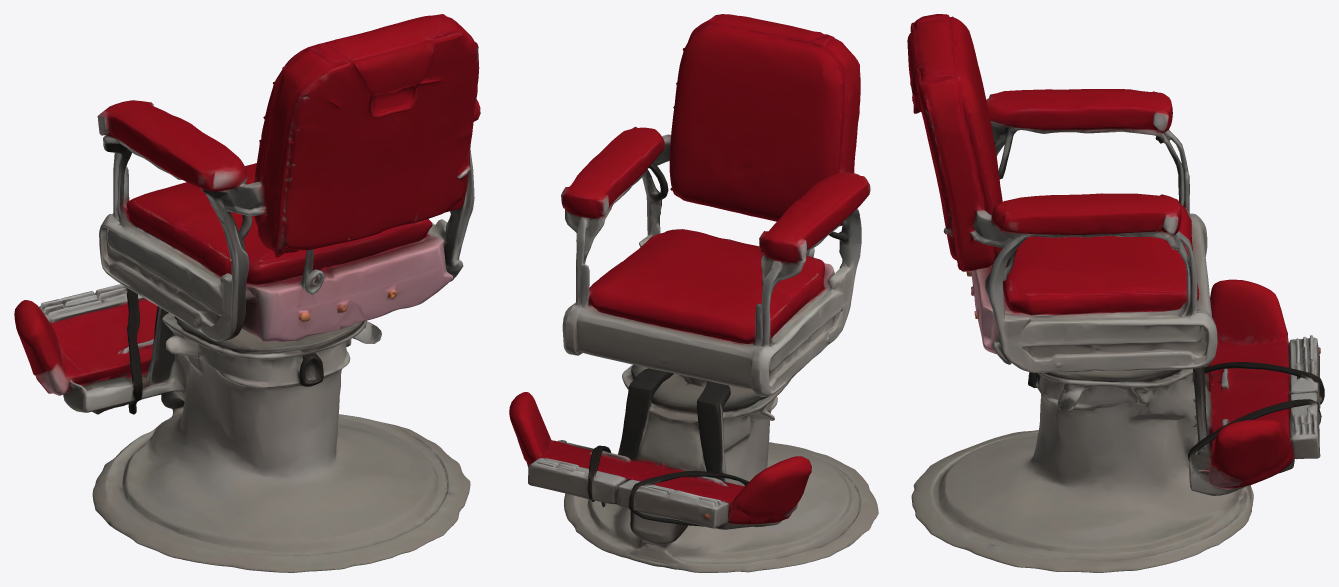
Rendered from salon_chair.glb.
3 views of the same model, side by side, from view 1: azimuth 30°, elevation 25°; view 2: azimuth 150°, elevation 25°; view 3: azimuth 270°, elevation 25° (orthographic). The views are drawn at different scales.
Parts seen in each view (by area): view 1: tripo_node_41cdaa28-efc5-49c6-a533-d0f6d30daa3f; view 2: tripo_node_41cdaa28-efc5-49c6-a533-d0f6d30daa3f; view 3: tripo_node_41cdaa28-efc5-49c6-a533-d0f6d30daa3f.
Boxes of the visible parts, left/top/right/bottom form: tripo_node_41cdaa28-efc5-49c6-a533-d0f6d30daa3f: left=14, top=14, right=480, bottom=572; tripo_node_41cdaa28-efc5-49c6-a533-d0f6d30daa3f: left=509, top=14, right=878, bottom=572; tripo_node_41cdaa28-efc5-49c6-a533-d0f6d30daa3f: left=907, top=14, right=1324, bottom=572.
Size of the model in its own units: 0.7106 by 1 by 0.8077.
Materials: 1 (1 with a texture image).
